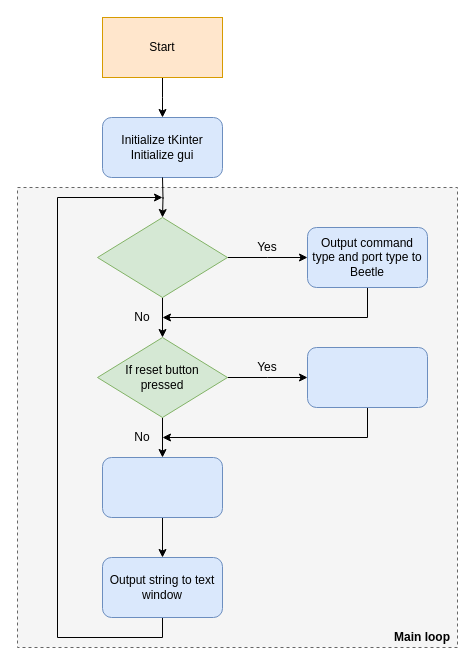
Some shapes in this 475 by 665 pixel diagram are drawn without their labels. Here are the shapes that lost their labels. From the top down, the box of each, then its label:
(96, 216, 228, 298): If request button pressed
(306, 346, 428, 408): Output reset command to Beetle
(102, 456, 222, 518): Receive output string from Beetle
